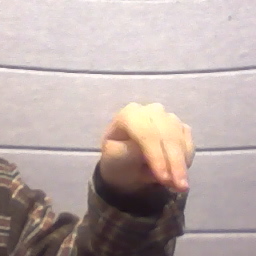N: (100, 98, 198, 197)
